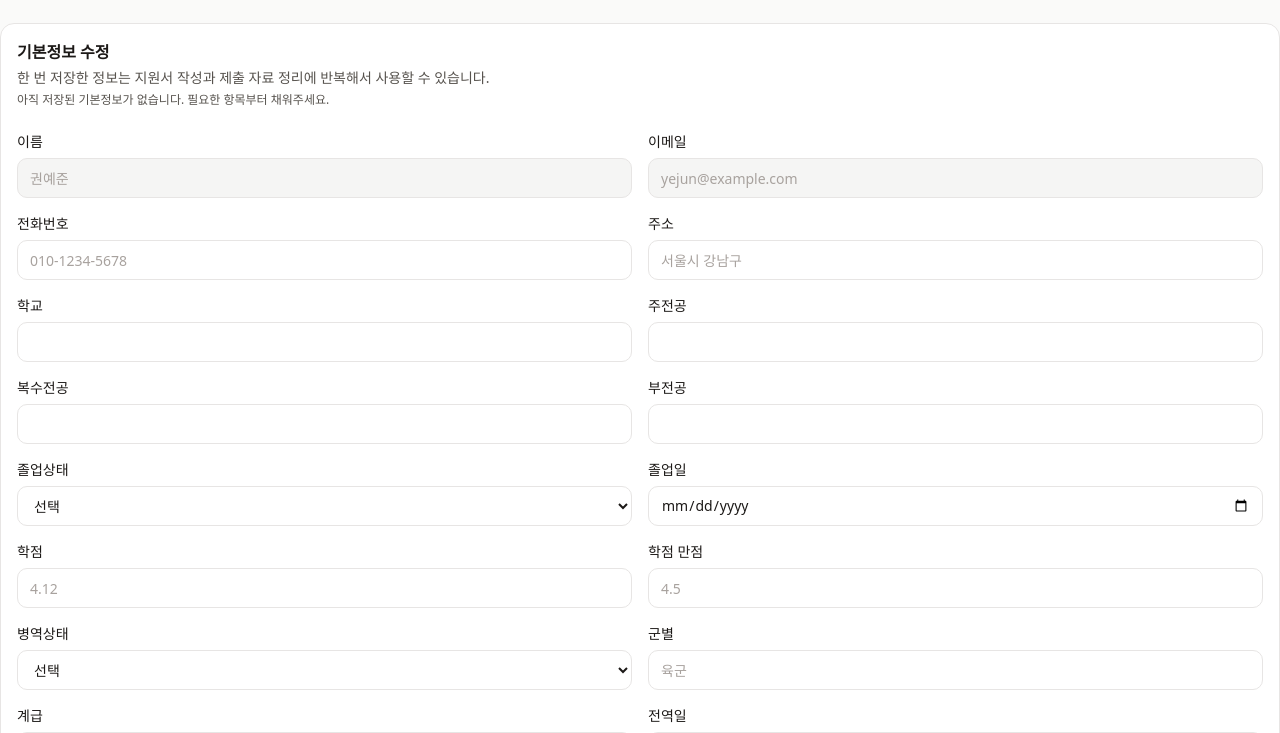
ProfileForm › shows API failure message
(page scrolled)
In the field labelled "학교": (324, 342) x1=17 y1=322 x2=632 y2=362, type "아주대학교"
(page scrolled)
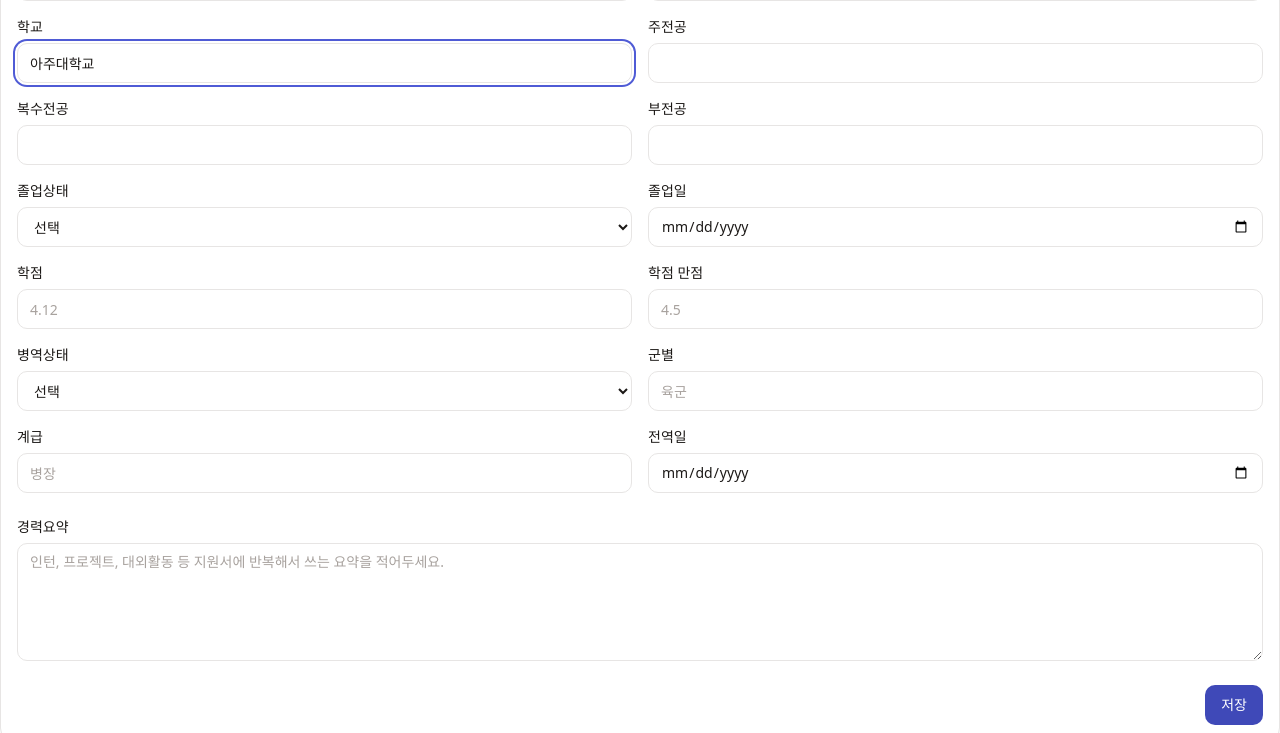
Click the button "저장": (1234, 705) x1=1205 y1=685 x2=1263 y2=725
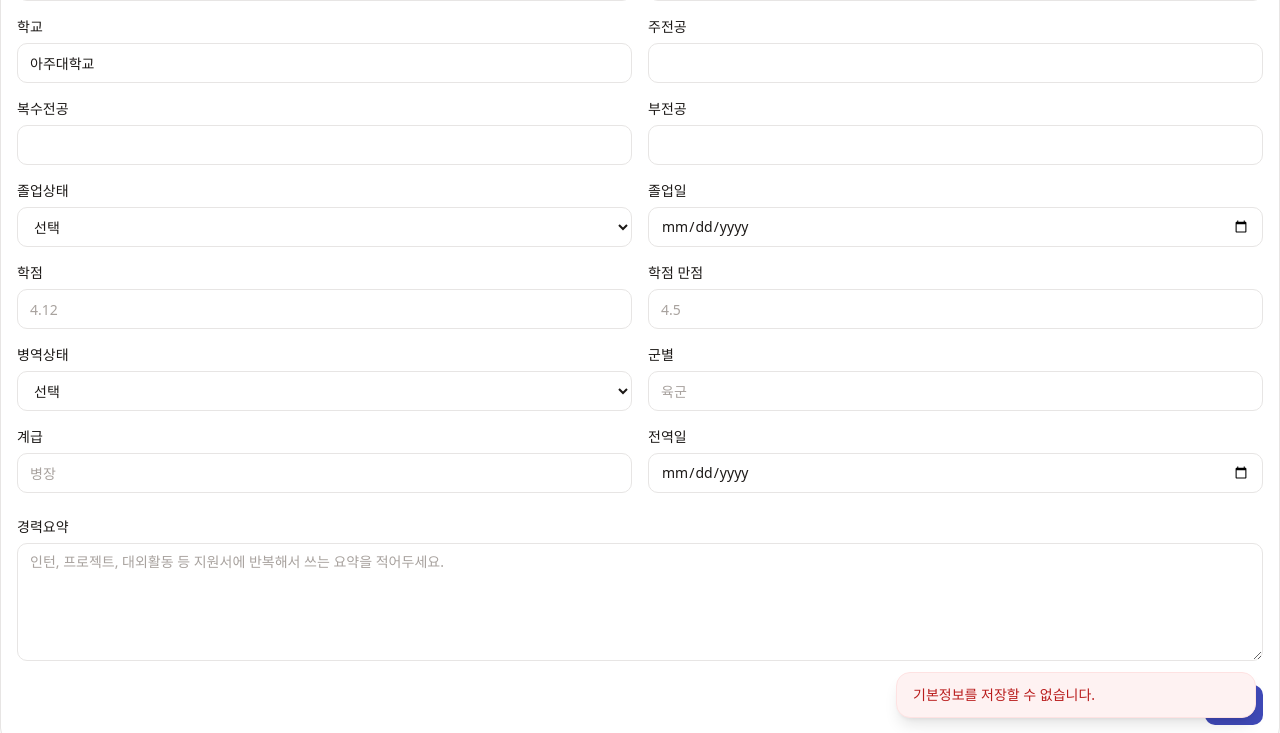
Result: the text "기본정보를 저장할 수 없습니다." is shown at x1=896 y1=672 x2=1256 y2=718
